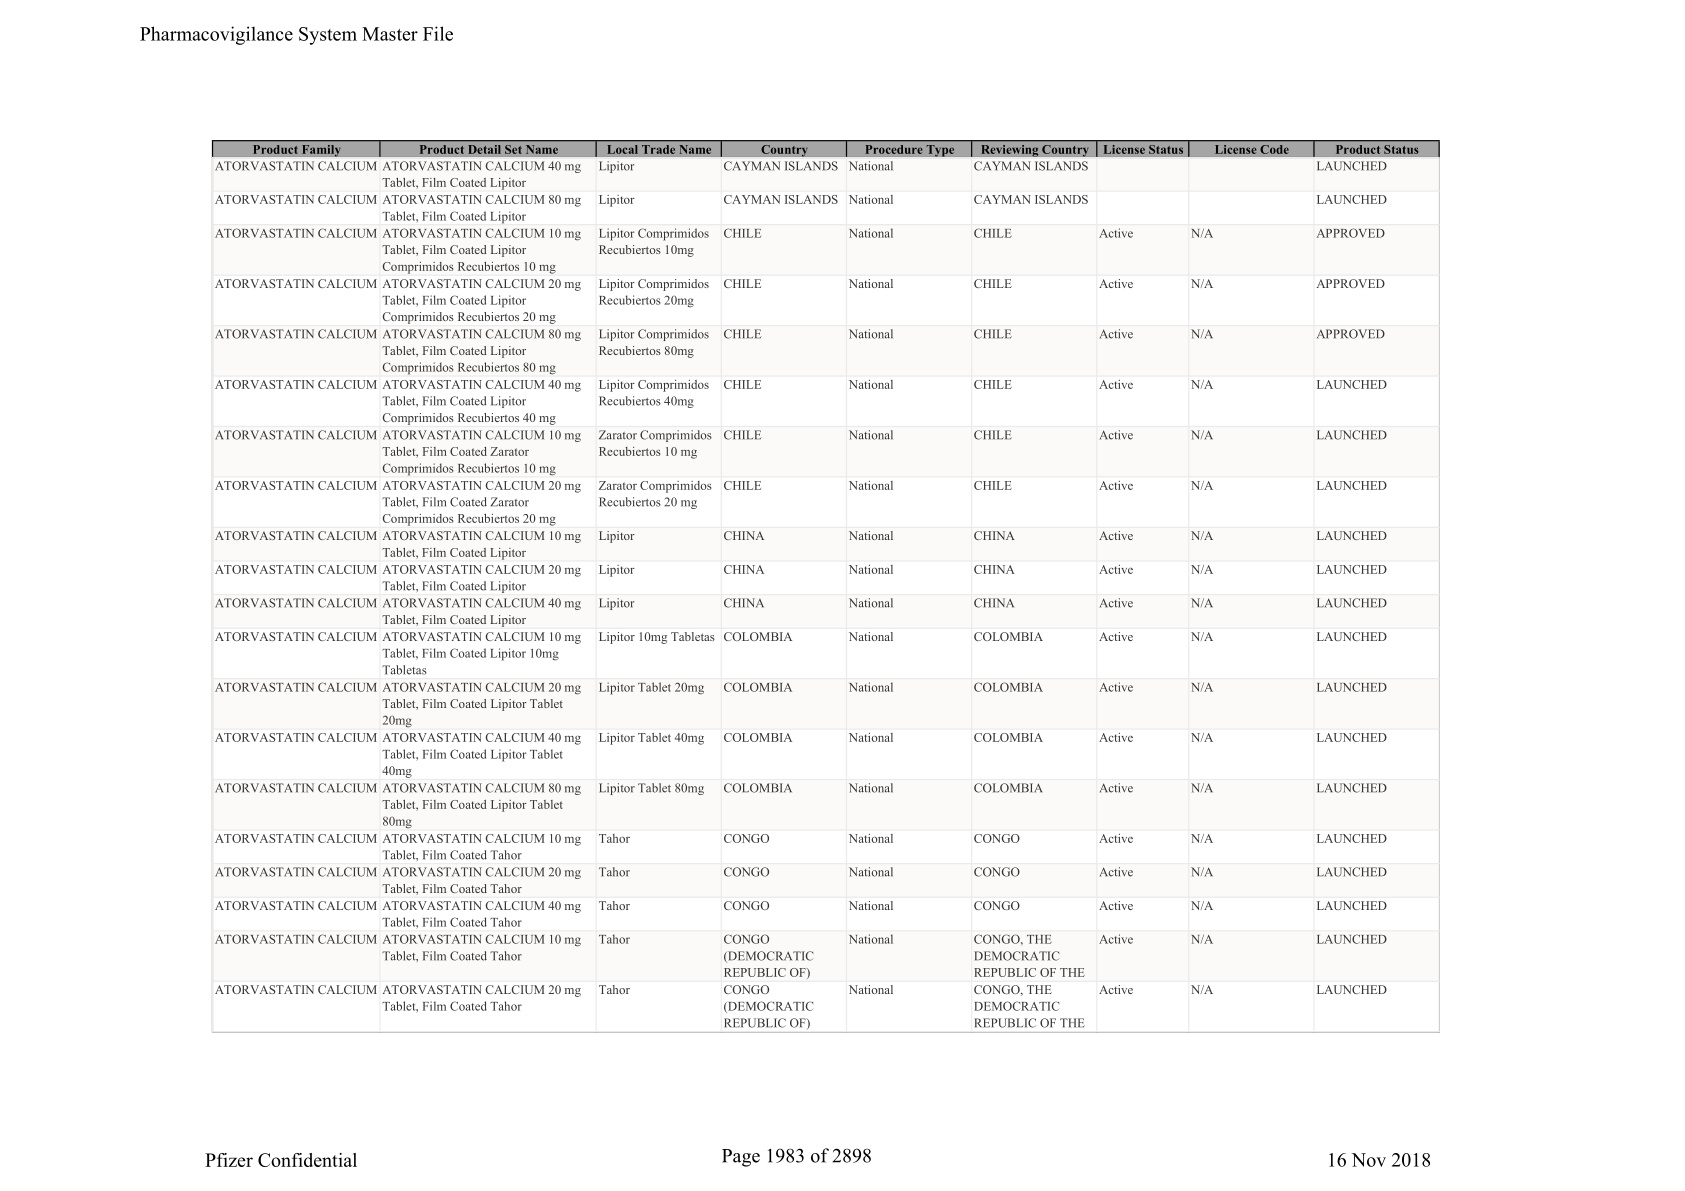full_lined: (211, 140, 1440, 1034)
